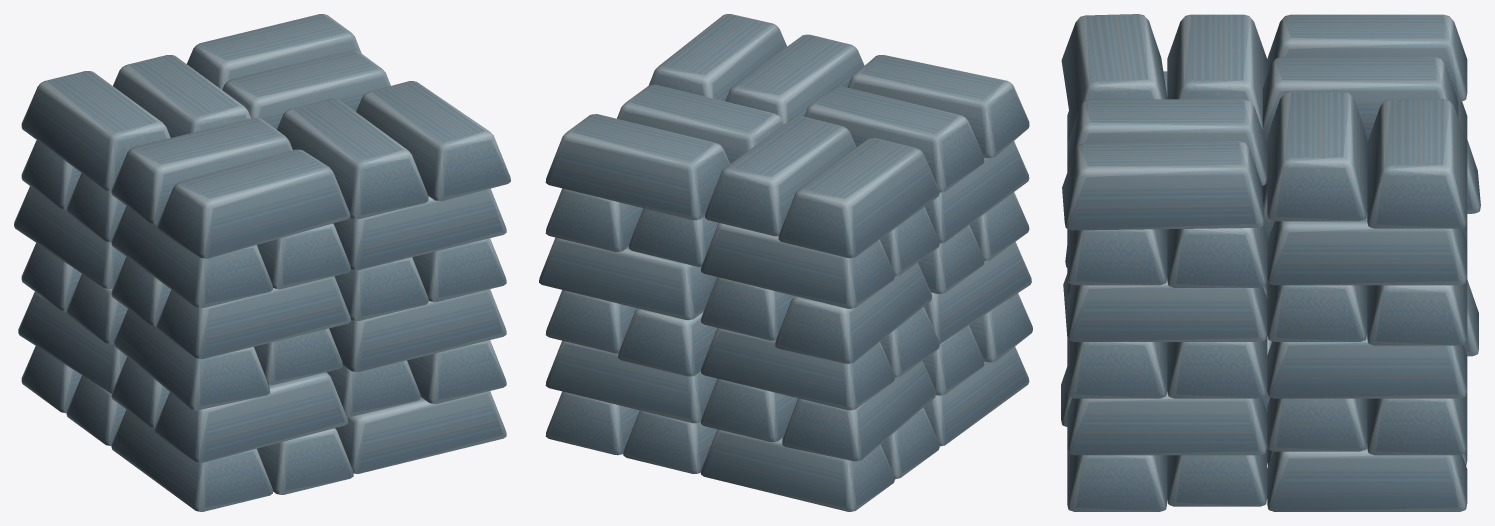
Rendered from Iron_Bars_Stack_Large.gltf.
3 renders of one model, left to right at view 1: azimuth 30°, elevation 25°; view 2: azimuth 150°, elevation 25°; view 3: azimuth 270°, elevation 25°, orthographic. The views are drawn at different scales.
Parts seen in each view (by area): view 1: Iron_Bars_Stack_Large; view 2: Iron_Bars_Stack_Large; view 3: Iron_Bars_Stack_Large.
Boxes of the visible parts, x1,y1,x2,y2 form: Iron_Bars_Stack_Large: (14,14,510,511); Iron_Bars_Stack_Large: (539,14,1032,511); Iron_Bars_Stack_Large: (1061,14,1480,511).
Size of the model in its own units: 1.66 by 1.5 by 1.68.
1 material, 1 textured.
